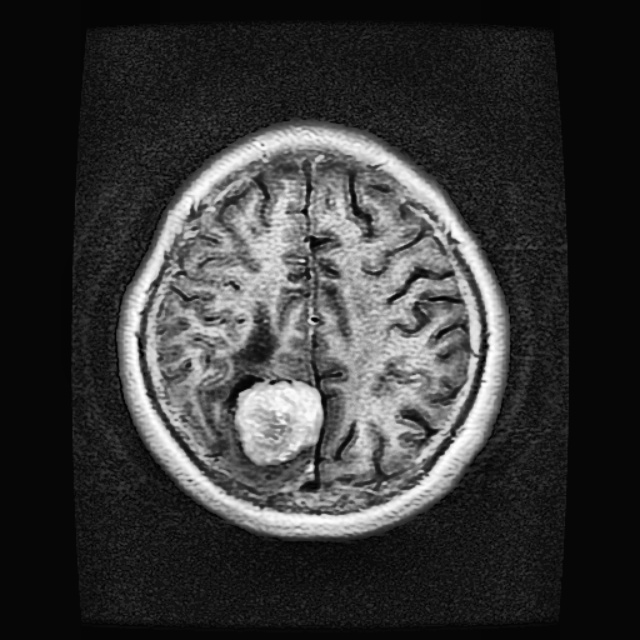Pituitary: (234, 378, 324, 465)
